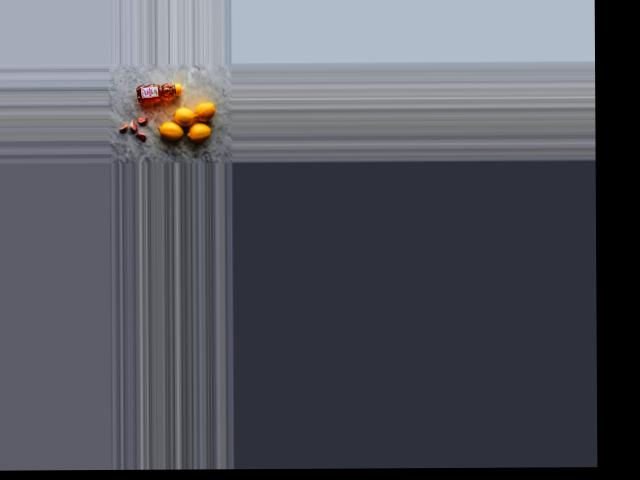lemon: (156, 118, 185, 144)
